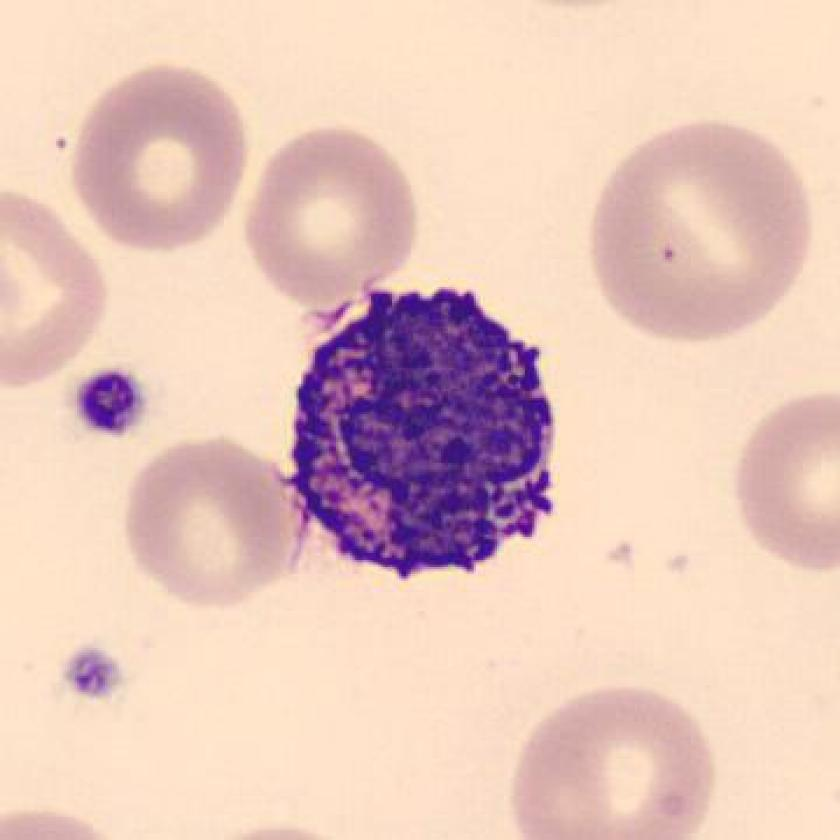basophil: (284, 279, 571, 584)
